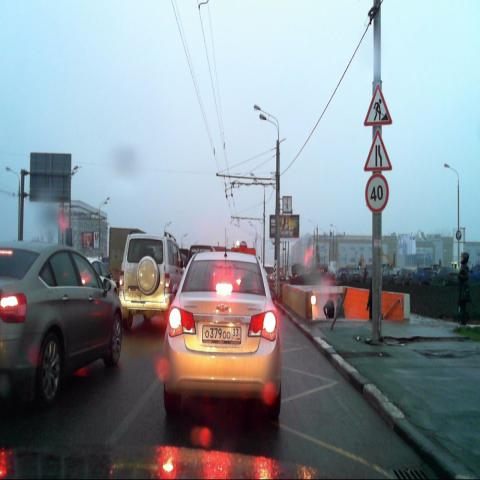1_20_2: (363, 131, 392, 171)
